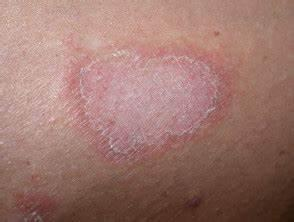annular lichen planus: (52, 32, 258, 181)
